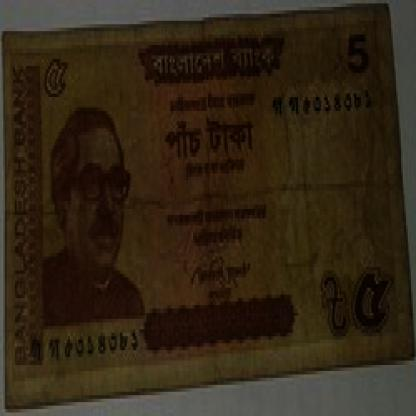Five Taka: (348, 256, 392, 353), (37, 45, 78, 118), (339, 14, 373, 83)
